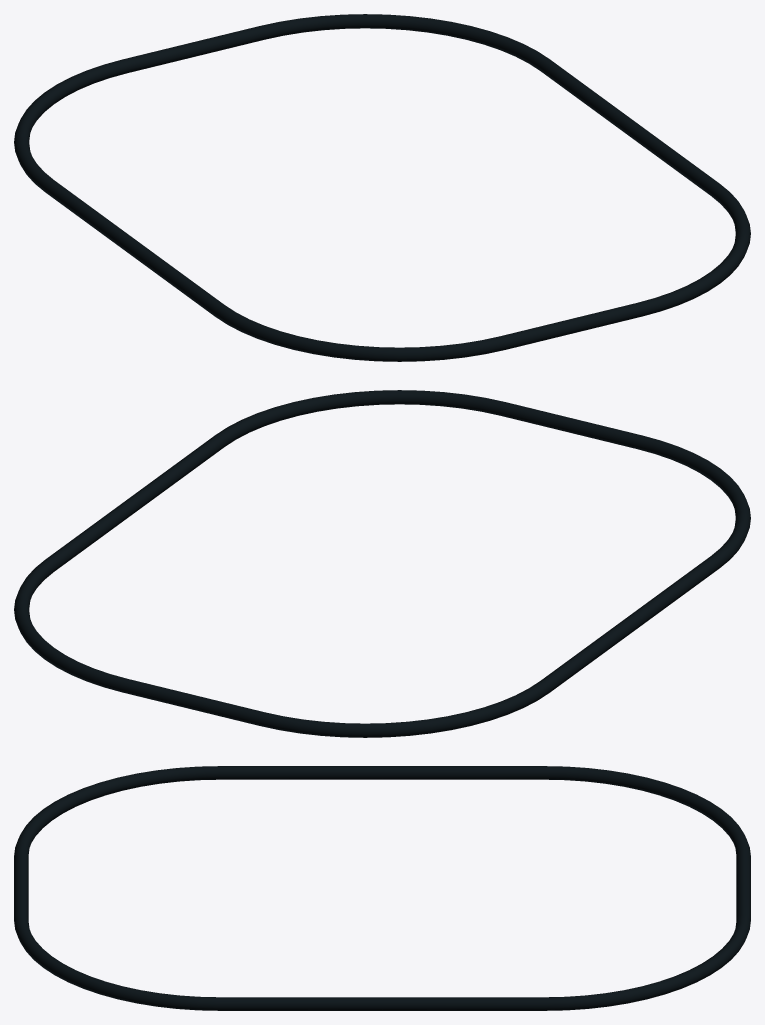
File: SM_Ceiling02_MC.fbx
The picture shows the model from 3 angles, top to bottom: view 1: azimuth 30°, elevation 25°; view 2: azimuth 150°, elevation 25°; view 3: azimuth 270°, elevation 25°; orthographic projection. The views are drawn at different scales.
Parts seen in each view (by area): view 1: SM_Ceiling02_MC; view 2: SM_Ceiling02_MC; view 3: SM_Ceiling02_MC.
Boxes of the visible parts, x1,y1,x2,y2 form: SM_Ceiling02_MC: (14, 14, 750, 361); SM_Ceiling02_MC: (14, 390, 750, 737); SM_Ceiling02_MC: (14, 766, 750, 1010).
Bounding box in the file's own units: 8655 × 224 × 11363.
